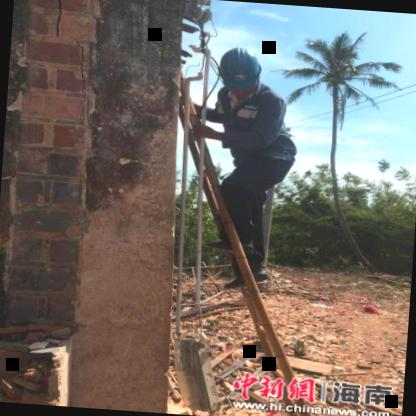helmet: (214, 45, 264, 104)
